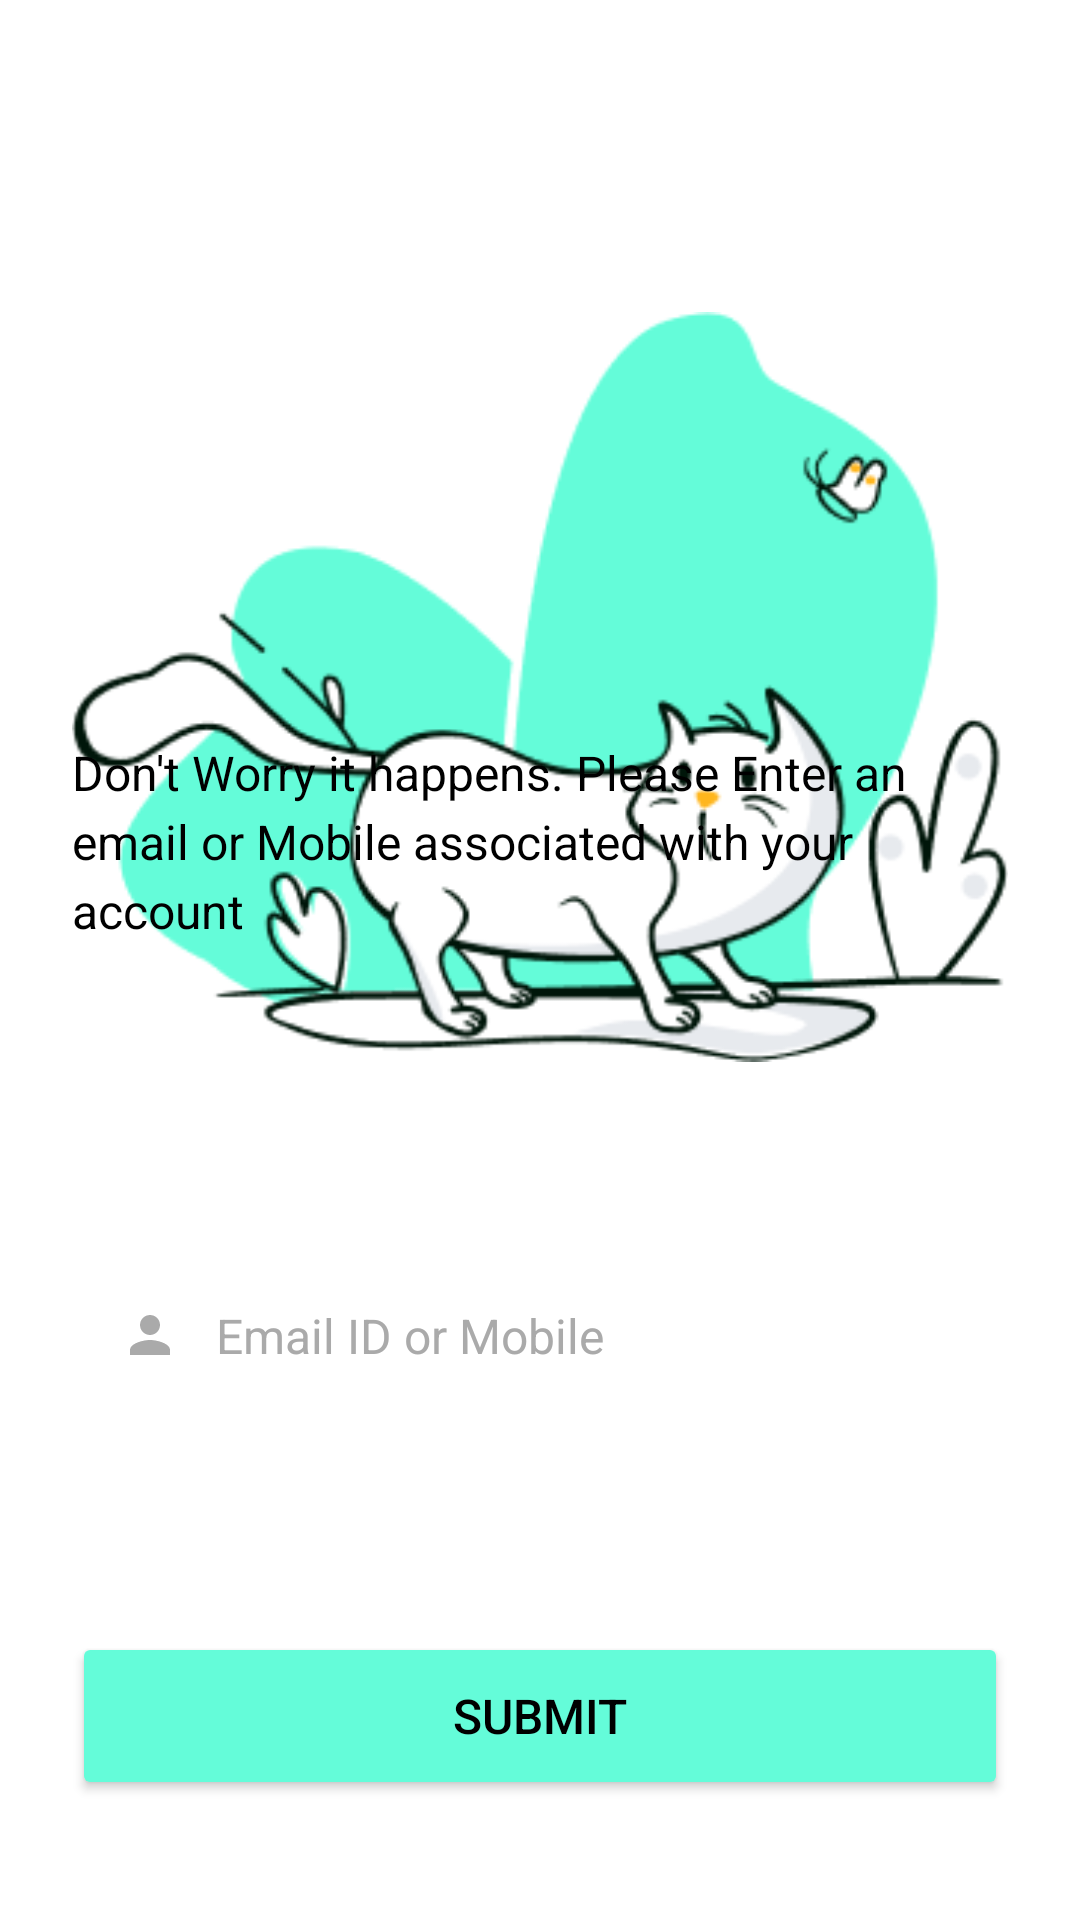

Locate icon controls on the screen. Image size 1080w x 1920h, boxes as [left=x1, top=y1, right=x2, bottom=y2].
account: [left=130, top=1315, right=170, bottom=1355]
